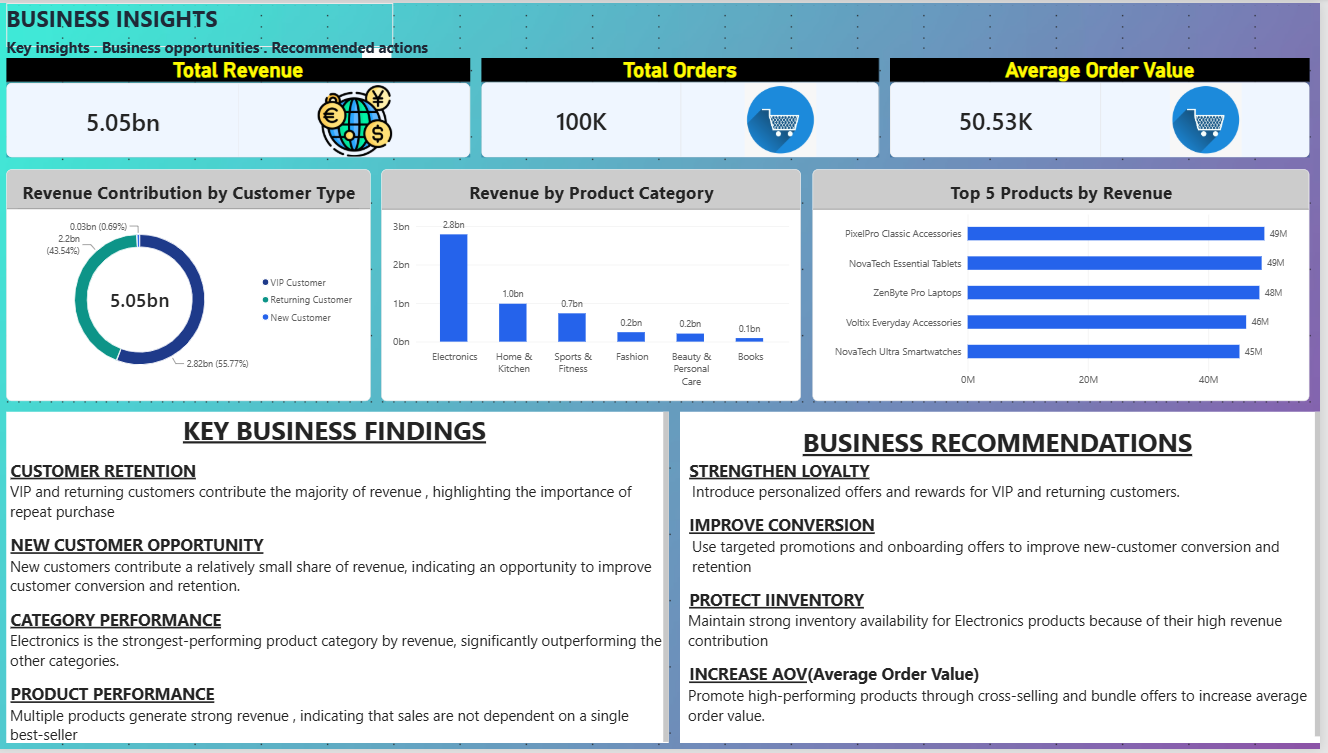

This screenshot's page, from the dashboard's own definition file:
{"tool":"powerbi","page":{"name":"Business Insights","canvas":[1920,1080],"ordinal":4},"visuals":[{"type":"textbox","box":[16,0,560,64],"z":0},{"type":"textbox","box":[16,48,720,80],"z":1000},{"type":"cardVisual","title":"Total Revenue","fields":{"Data":["public order_items.Total Revenue"]},"box":[16,80,672,144],"z":2000},{"type":"cardVisual","title":"Total Orders","fields":{"Data":["public orders.Total Orders"]},"box":[704,80,576,144],"z":3000},{"type":"cardVisual","title":"Average Order Value","fields":{"Data":["public order_items.Average Order Value"]},"box":[1296,80,608,144],"z":4000},{"type":"donutChart","title":"Revenue Contribution by Customer Type","fields":{"Category":["public customers.customer_type"],"Y":["public order_items.Total Revenue"]},"box":[16,240,528,336],"z":5000},{"type":"clusteredColumnChart","title":"Revenue by Product Category","fields":{"Category":["public products.category"],"Y":["public order_items.Total Revenue"]},"box":[560,240,608,336],"z":6000},{"type":"barChart","title":"Top 5 Products by Revenue","fields":{"Category":["public products.product_name"],"Y":["public order_items.Total Revenue"]},"box":[1184,240,720,336],"z":7000},{"type":"textbox","box":[16,592,960,480],"z":10000},{"type":"textbox","box":[992,592,928,480],"z":11000}]}

Visuals, with their boxes in screenshot pixels (x1, y1, x2, y2), scaled from the page's 1920x1080 canvas onto the 1328x753 screenshot:
textbox: BBox(11, 0, 398, 45)
textbox: BBox(11, 33, 509, 89)
"Total Revenue" cardVisual: BBox(11, 56, 476, 156)
"Total Orders" cardVisual: BBox(487, 56, 885, 156)
"Average Order Value" cardVisual: BBox(896, 56, 1317, 156)
"Revenue Contribution by Customer Type" donutChart: BBox(11, 167, 376, 402)
"Revenue by Product Category" clusteredColumnChart: BBox(387, 167, 808, 402)
"Top 5 Products by Revenue" barChart: BBox(819, 167, 1317, 402)
textbox: BBox(11, 413, 675, 747)
textbox: BBox(686, 413, 1327, 747)
